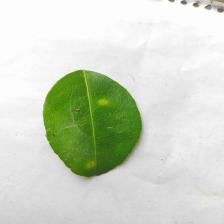canker: (62, 93, 113, 173)
